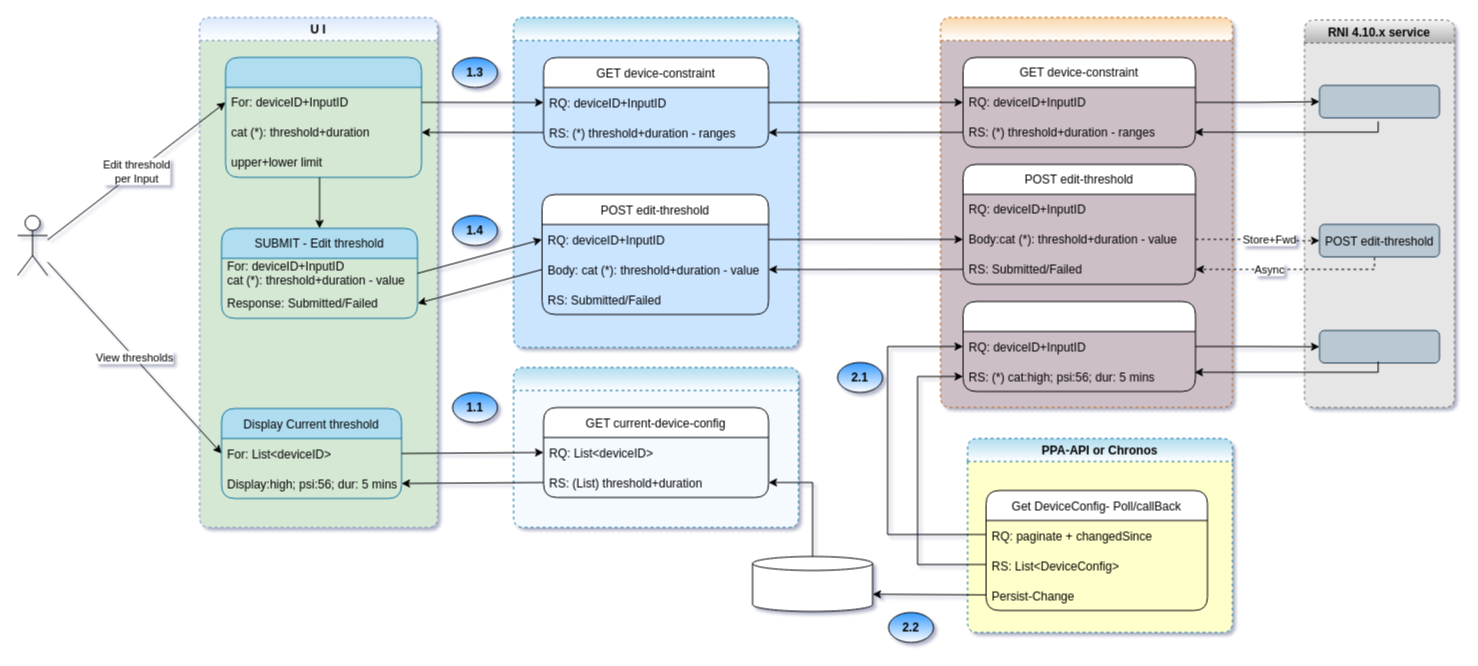
Some shapes in this 1478 by 666 pixel diagram are drawn without their labels. The shapes that lost their labels are listed below. From the top down, each one's box as (x1, y1, x2, y2) in pixels, then its label:
(224, 56, 422, 177): Edit threshold
(1318, 84, 1440, 118): GET event-ranges
(512, 16, 798, 348): PPA-API Service (java)
(940, 16, 1232, 408): SA-RNI Service
(16, 214, 48, 276): PPA User
(962, 300, 1196, 392): GET device-config-s Poll/Callback
(1318, 330, 1440, 363): GET current-config
(512, 366, 798, 528): PPA-backend Service (node)
(752, 556, 872, 612): PPA App DB
